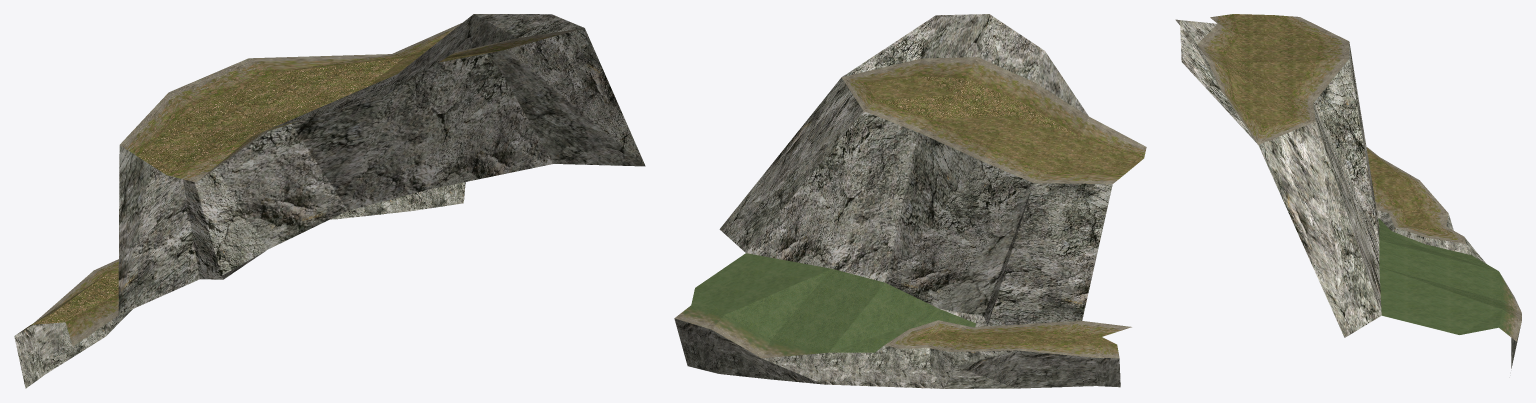
Rendered from cs_landbit_04.obj.
The picture shows the model from 3 angles, left to right: view 1: azimuth 30°, elevation 25°; view 2: azimuth 150°, elevation 25°; view 3: azimuth 270°, elevation 25°; orthographic projection. The views are drawn at different scales.
Visible parts, largest first — view 1: cs_landbit_04; view 2: cs_landbit_04; view 3: cs_landbit_04.
Part boxes in pixels (x1,y1,x2,y2): cs_landbit_04: (14,14,645,388); cs_landbit_04: (674,14,1146,388); cs_landbit_04: (1175,14,1521,368).
Bounding box in the file's own units: 235 × 151 × 162.
